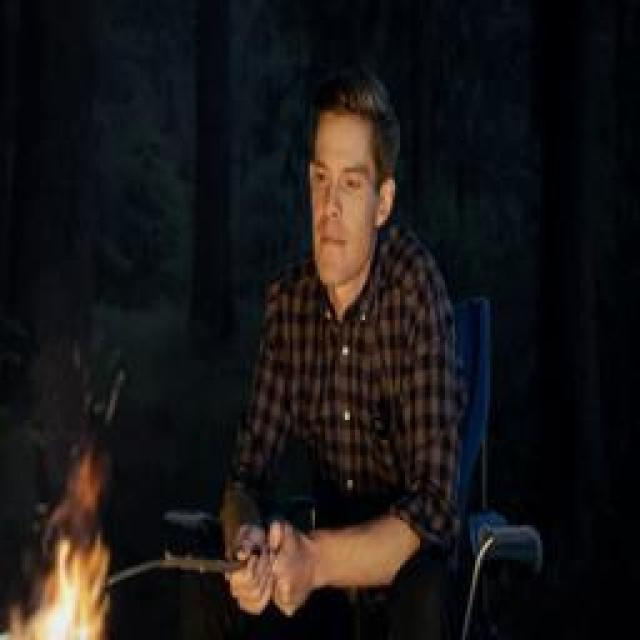Fire: (1, 535, 109, 640)
